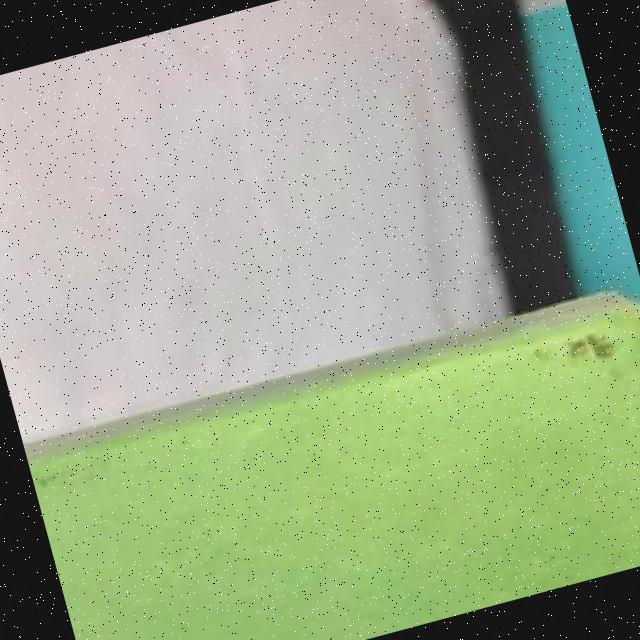greenbox: (20, 273, 640, 640)
